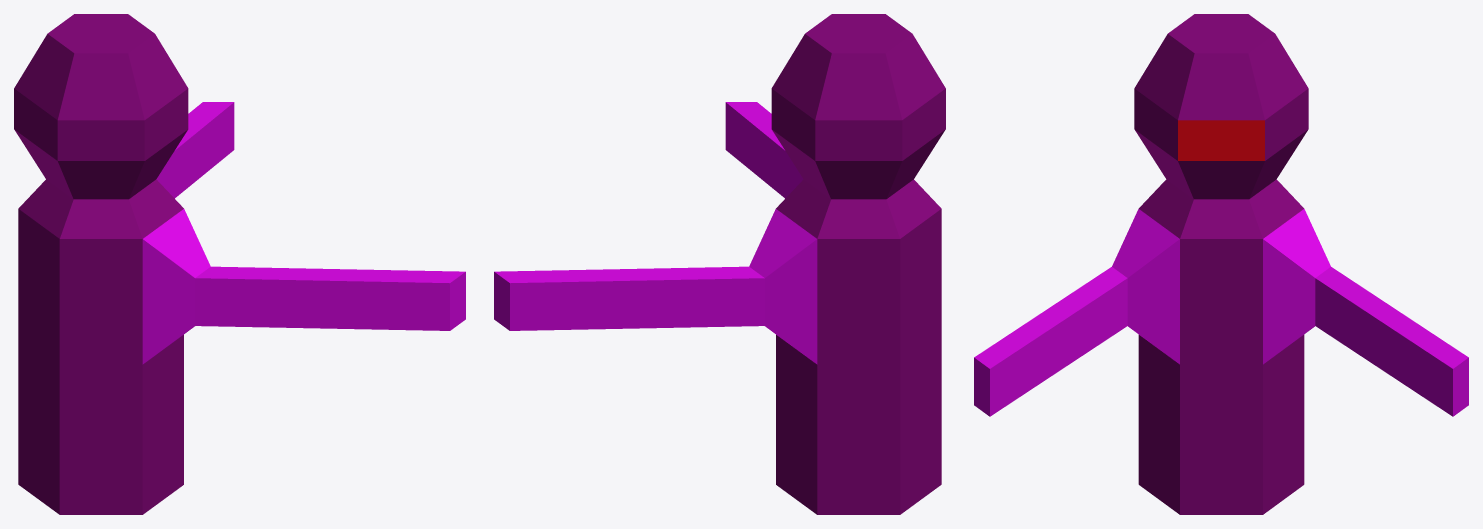
The model's file is enemy.fbx.
3 views of the same model, side by side, from view 1: azimuth 30°, elevation 25°; view 2: azimuth 150°, elevation 25°; view 3: azimuth 270°, elevation 25° (orthographic).
Parts seen in each view (by area): view 1: Cylinder, Cylinder.001; view 2: Cylinder, Cylinder.001; view 3: Cylinder, Cylinder.001, Cylinder.002.
Part boxes in pixels (x1=…): Cylinder: x1=14, y1=14, x2=188, y2=514; Cylinder.001: x1=142, y1=102, x2=465, y2=364; Cylinder: x1=771, y1=14, x2=945, y2=514; Cylinder.001: x1=494, y1=102, x2=817, y2=364; Cylinder: x1=1134, y1=14, x2=1308, y2=514; Cylinder.001: x1=974, y1=209, x2=1468, y2=416; Cylinder.002: x1=1178, y1=120, x2=1264, y2=160.
Bounding box in the file's own units: 438 × 600 × 597.
